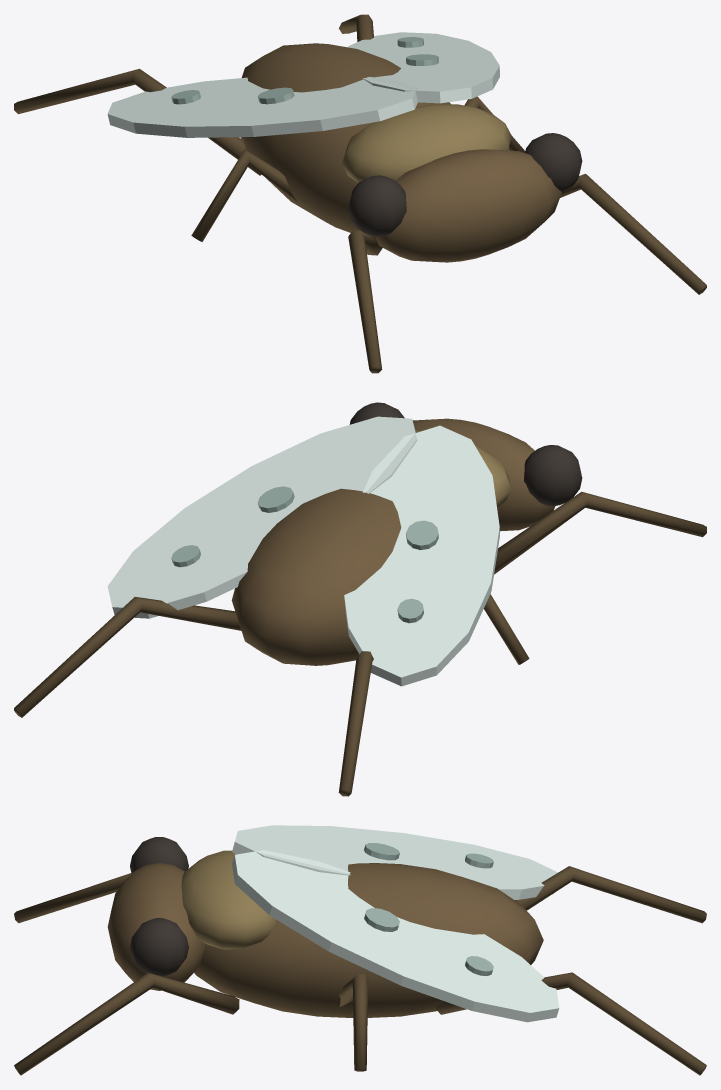
The model's file is bug-cicada.glb.
3 renders of one model, top to bottom at view 1: azimuth 30°, elevation 25°; view 2: azimuth 150°, elevation 25°; view 3: azimuth 270°, elevation 25°, orthographic. The views are drawn at different scales.
Visible parts, largest first — view 1: bug; view 2: bug; view 3: bug.
Part boxes in pixels (bbox=[...]): bug: bbox=[14, 14, 706, 373]; bug: bbox=[14, 402, 706, 796]; bug: bbox=[14, 825, 706, 1075].
Bounding box in the file's own units: 0.1315 × 0.0617 × 0.2437.
